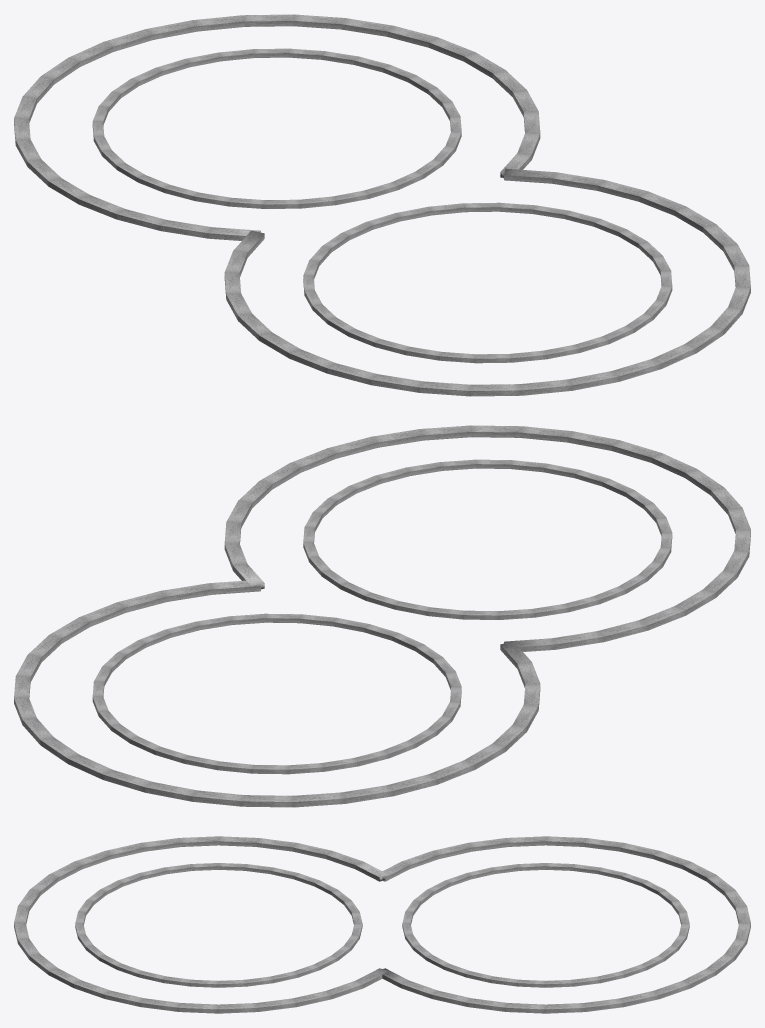
The model's file is track_walls2.obj.
The picture shows the model from 3 angles, top to bottom: view 1: azimuth 30°, elevation 25°; view 2: azimuth 150°, elevation 25°; view 3: azimuth 270°, elevation 25°; orthographic projection. The views are drawn at different scales.
Parts seen in each view (by area): view 1: Circle.000_Circle.006, Circle.000_Circle.000, Circle.002_Circle.000, Circle.002_Circle.007; view 2: Circle.000_Circle.000, Circle.000_Circle.006, Circle.002_Circle.007, Circle.002_Circle.000; view 3: Circle.000_Circle.006, Circle.000_Circle.000, Circle.002_Circle.000, Circle.002_Circle.007.
Boxes of the visible parts, x1,y1,x2,y2 form: Circle.000_Circle.006: [224, 168, 750, 396]; Circle.000_Circle.000: [14, 14, 540, 240]; Circle.002_Circle.000: [92, 48, 461, 208]; Circle.002_Circle.007: [303, 202, 672, 363]; Circle.000_Circle.000: [14, 580, 540, 807]; Circle.000_Circle.006: [224, 425, 750, 651]; Circle.002_Circle.007: [303, 459, 672, 619]; Circle.002_Circle.000: [92, 613, 461, 774]; Circle.000_Circle.006: [14, 836, 388, 1013]; Circle.000_Circle.000: [382, 836, 750, 1013]; Circle.002_Circle.000: [402, 863, 689, 987]; Circle.002_Circle.007: [75, 863, 362, 987].
Size of the model in its own units: 106 by 1.2 by 191.
Materials: 4 (4 with a texture image).
